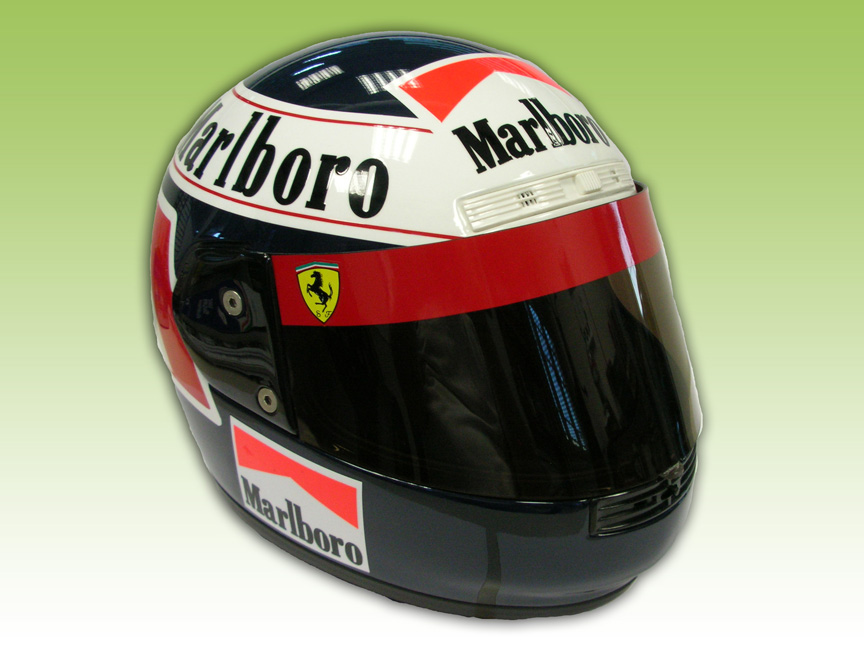helmet: (189, 45, 704, 588)
